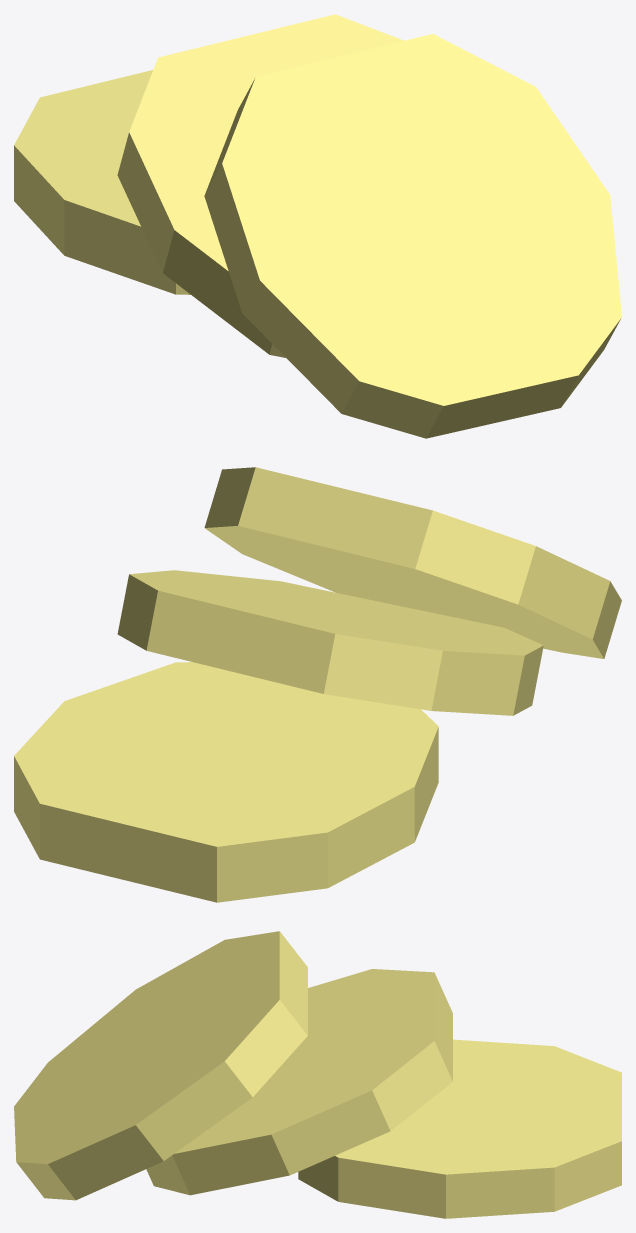
Rendered from Pineapple Slice.fbx.
The picture shows the model from 3 angles, top to bottom: view 1: azimuth 30°, elevation 25°; view 2: azimuth 150°, elevation 25°; view 3: azimuth 270°, elevation 25°; orthographic projection. The views are drawn at different scales.
Visible parts, largest first — view 1: Pineapple Slice.002, Pineapple Slice.001, Pineapple Slice; view 2: Pineapple Slice, Pineapple Slice.001, Pineapple Slice.002; view 3: Pineapple Slice.002, Pineapple Slice, Pineapple Slice.001.
Part boxes in pixels (x1,y1,x2,y2): Pineapple Slice.002: (204, 34, 621, 438); Pineapple Slice.001: (117, 14, 403, 357); Pineapple Slice: (14, 70, 190, 294); Pineapple Slice: (14, 662, 438, 902); Pineapple Slice.001: (117, 570, 543, 715); Pineapple Slice.002: (204, 467, 621, 658); Pineapple Slice.002: (14, 931, 307, 1200); Pineapple Slice: (298, 1039, 621, 1218); Pineapple Slice.001: (146, 969, 452, 1195).
Size of the model in its own units: 15.08 by 10.71 by 28.59.
